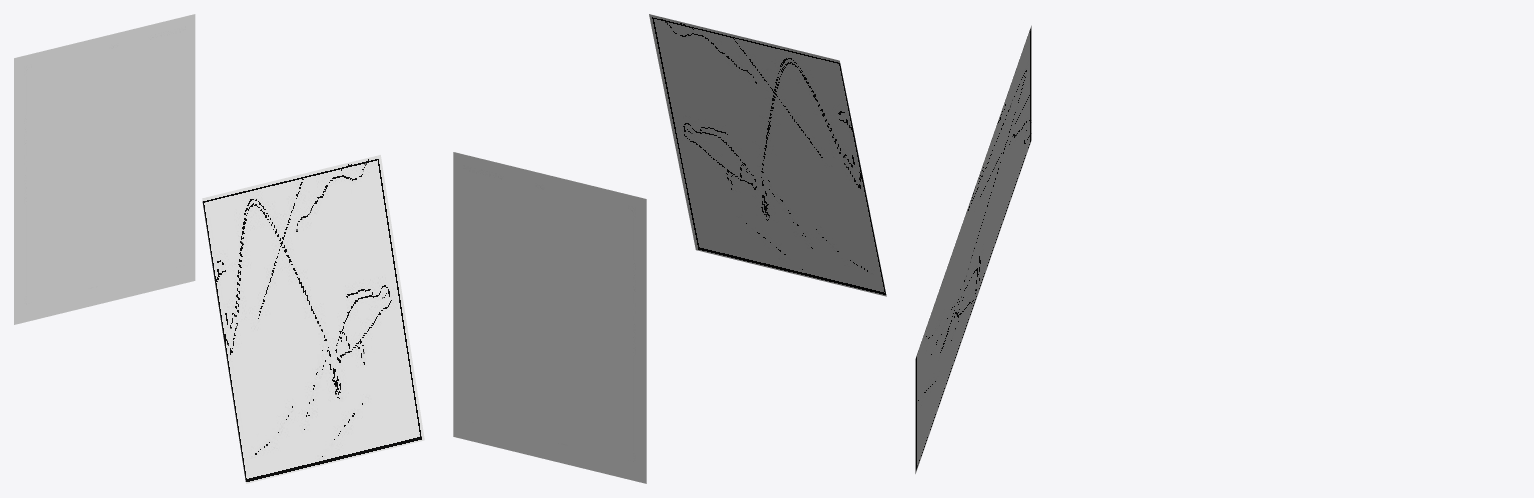
File: Catch glory.glb
The picture shows the model from 3 angles, left to right: view 1: azimuth 30°, elevation 25°; view 2: azimuth 150°, elevation 25°; view 3: azimuth 270°, elevation 25°; orthographic projection. The views are drawn at different scales.
Parts seen in each view (by area): view 1: mesh_id29, mesh_id1; view 2: mesh_id1, mesh_id29; view 3: mesh_id29.
Part boxes in pixels (bbox=[...]): mesh_id29: bbox=[202, 155, 424, 483]; mesh_id1: bbox=[14, 14, 195, 324]; mesh_id1: bbox=[453, 152, 646, 483]; mesh_id29: bbox=[649, 14, 886, 296]; mesh_id29: bbox=[915, 25, 1031, 473].
Bounding box in the file's own units: 0.153 × 0.214 × 0.332.
2 materials, 2 textured.
